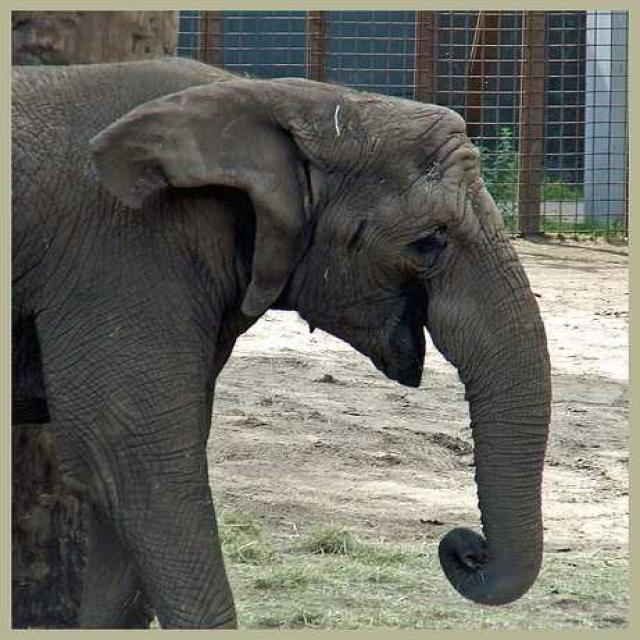Elephant: (10, 55, 552, 629)
